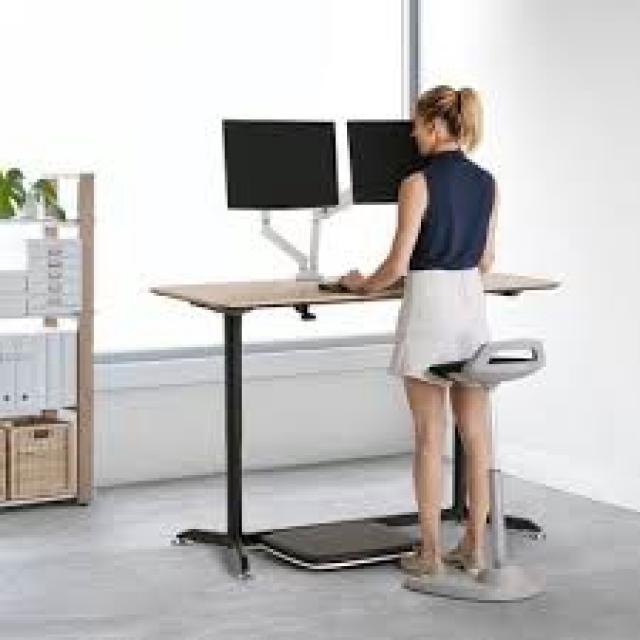adult: (324, 57, 546, 609)
